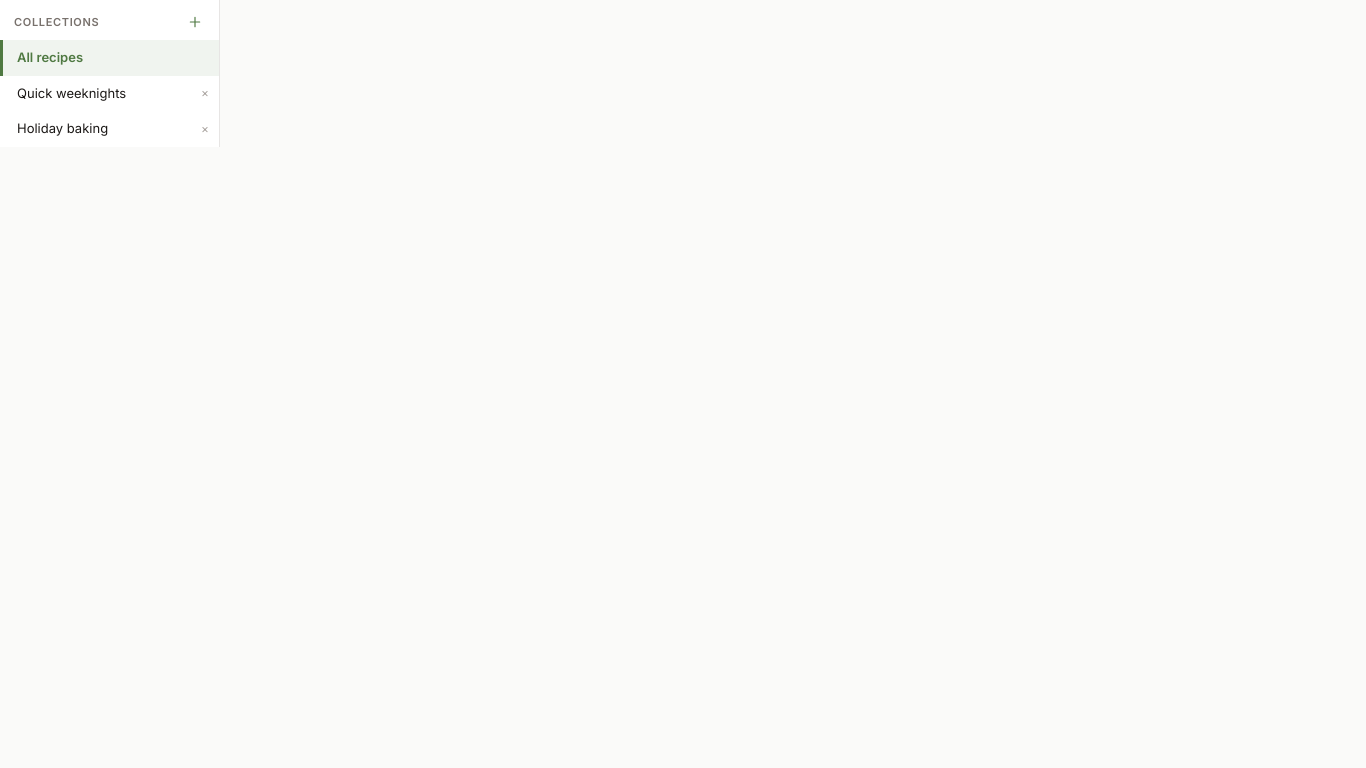
Test: CollectionSidebar › opens create modal when + button is clicked
Click the button with test id "new-collection-btn". click: (195, 22)
box: [185,12,205,32]
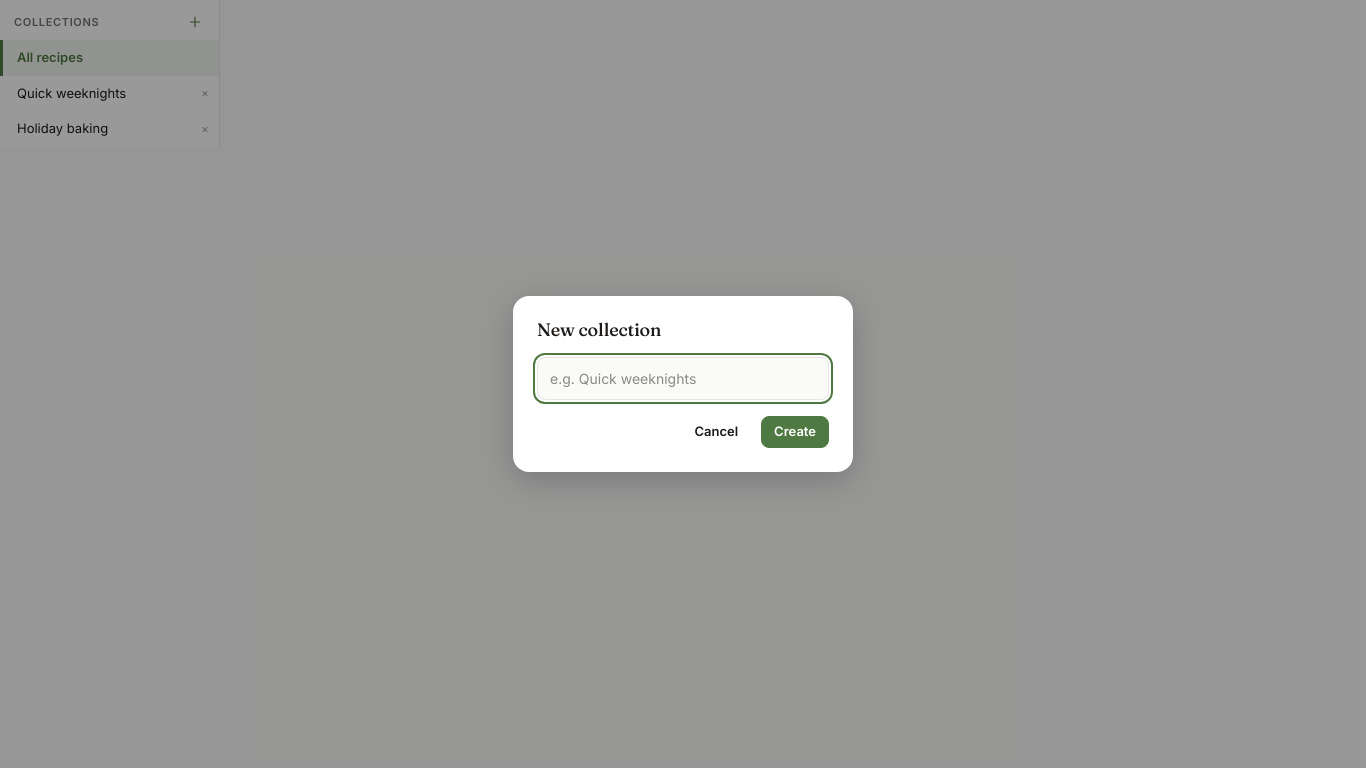
Check: the element with test id "create-collection-modal" is shown
